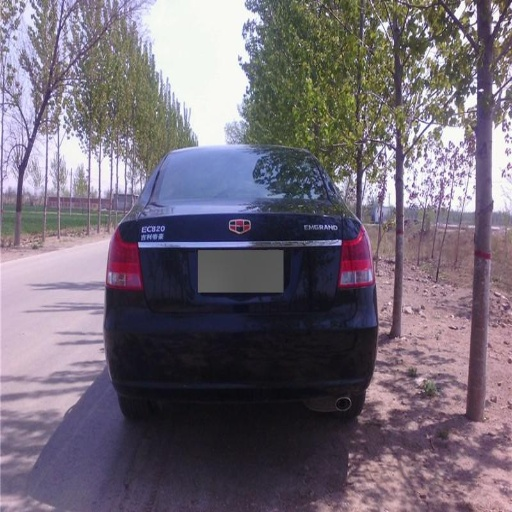back_bumper: (107, 288, 379, 412)
tailgate: (130, 204, 194, 311)
